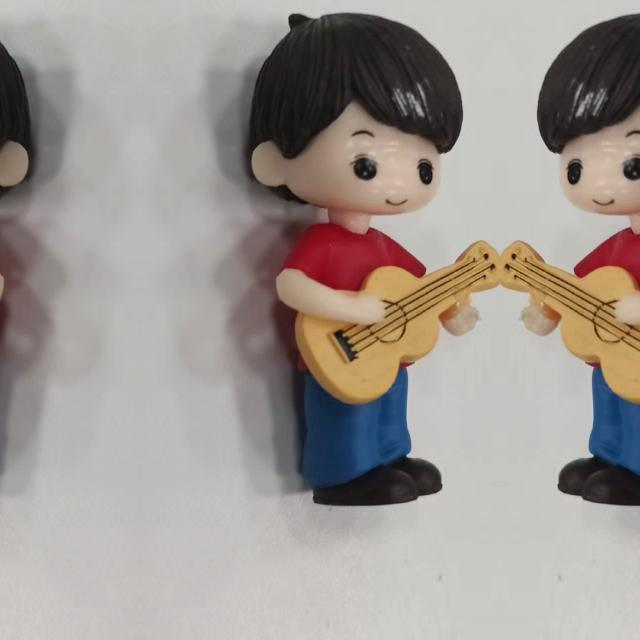man cloth: (281, 221, 441, 367), (559, 221, 640, 367)
man head: (238, 3, 468, 217), (532, 3, 640, 217), (0, 3, 41, 217)
trousers: (294, 362, 448, 506), (551, 362, 640, 506)
